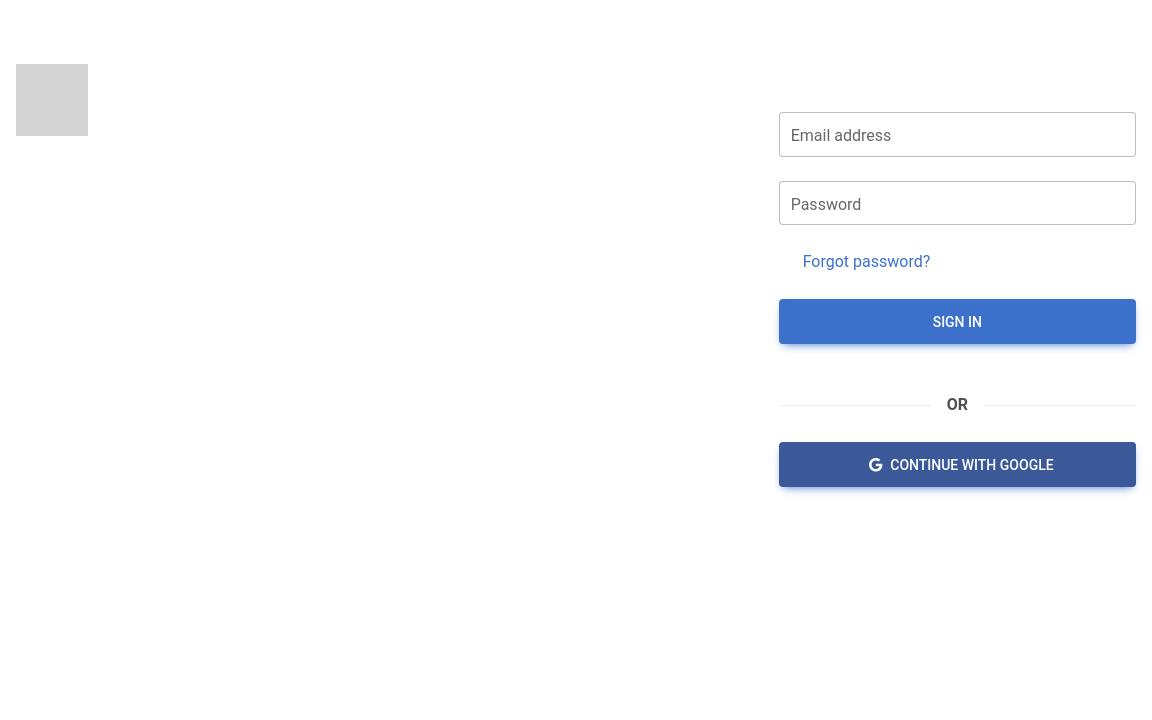
it: Page - Login › Login with unregistered email
The image size is (1152, 720).
Type "email@gmail.com" into the field with id "email" at (958, 135), box [779, 112, 1136, 157]
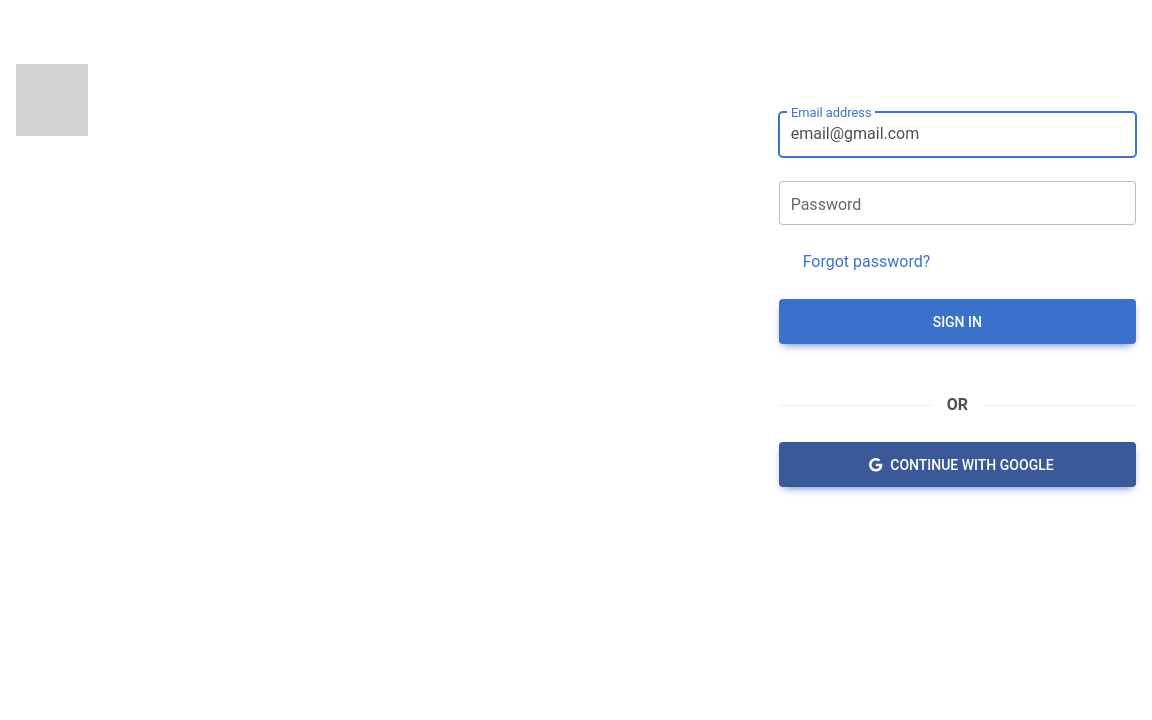
Type "password" into the password field labelled "Password" at (958, 204), box [779, 181, 1136, 226]
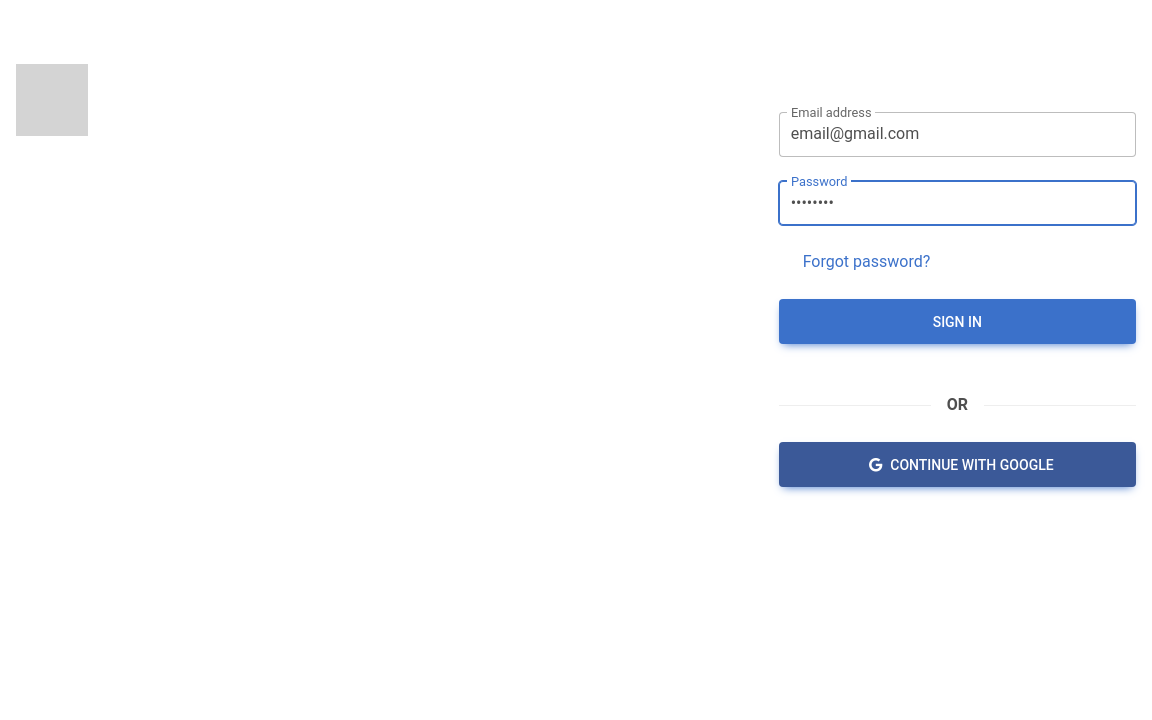
Click the button "Sign in" at (958, 322), box [779, 299, 1136, 344]
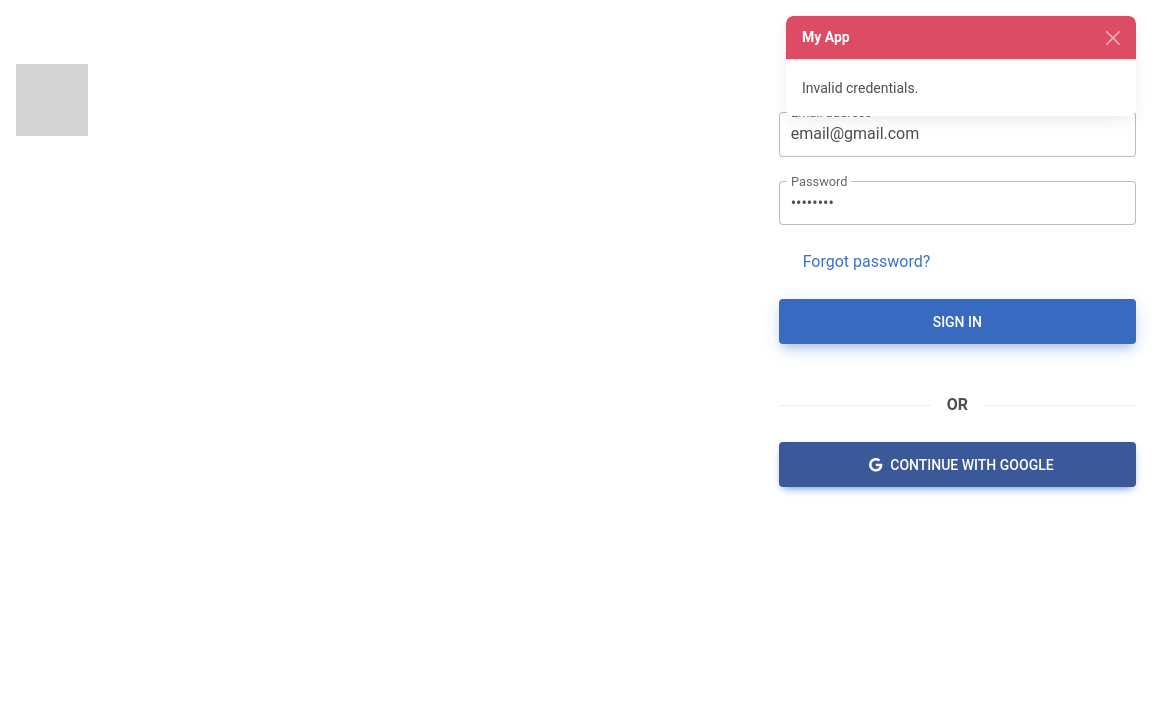
Expected: the text with class "toast-body" shows "Invalid credentials", [802, 80, 918, 96]
